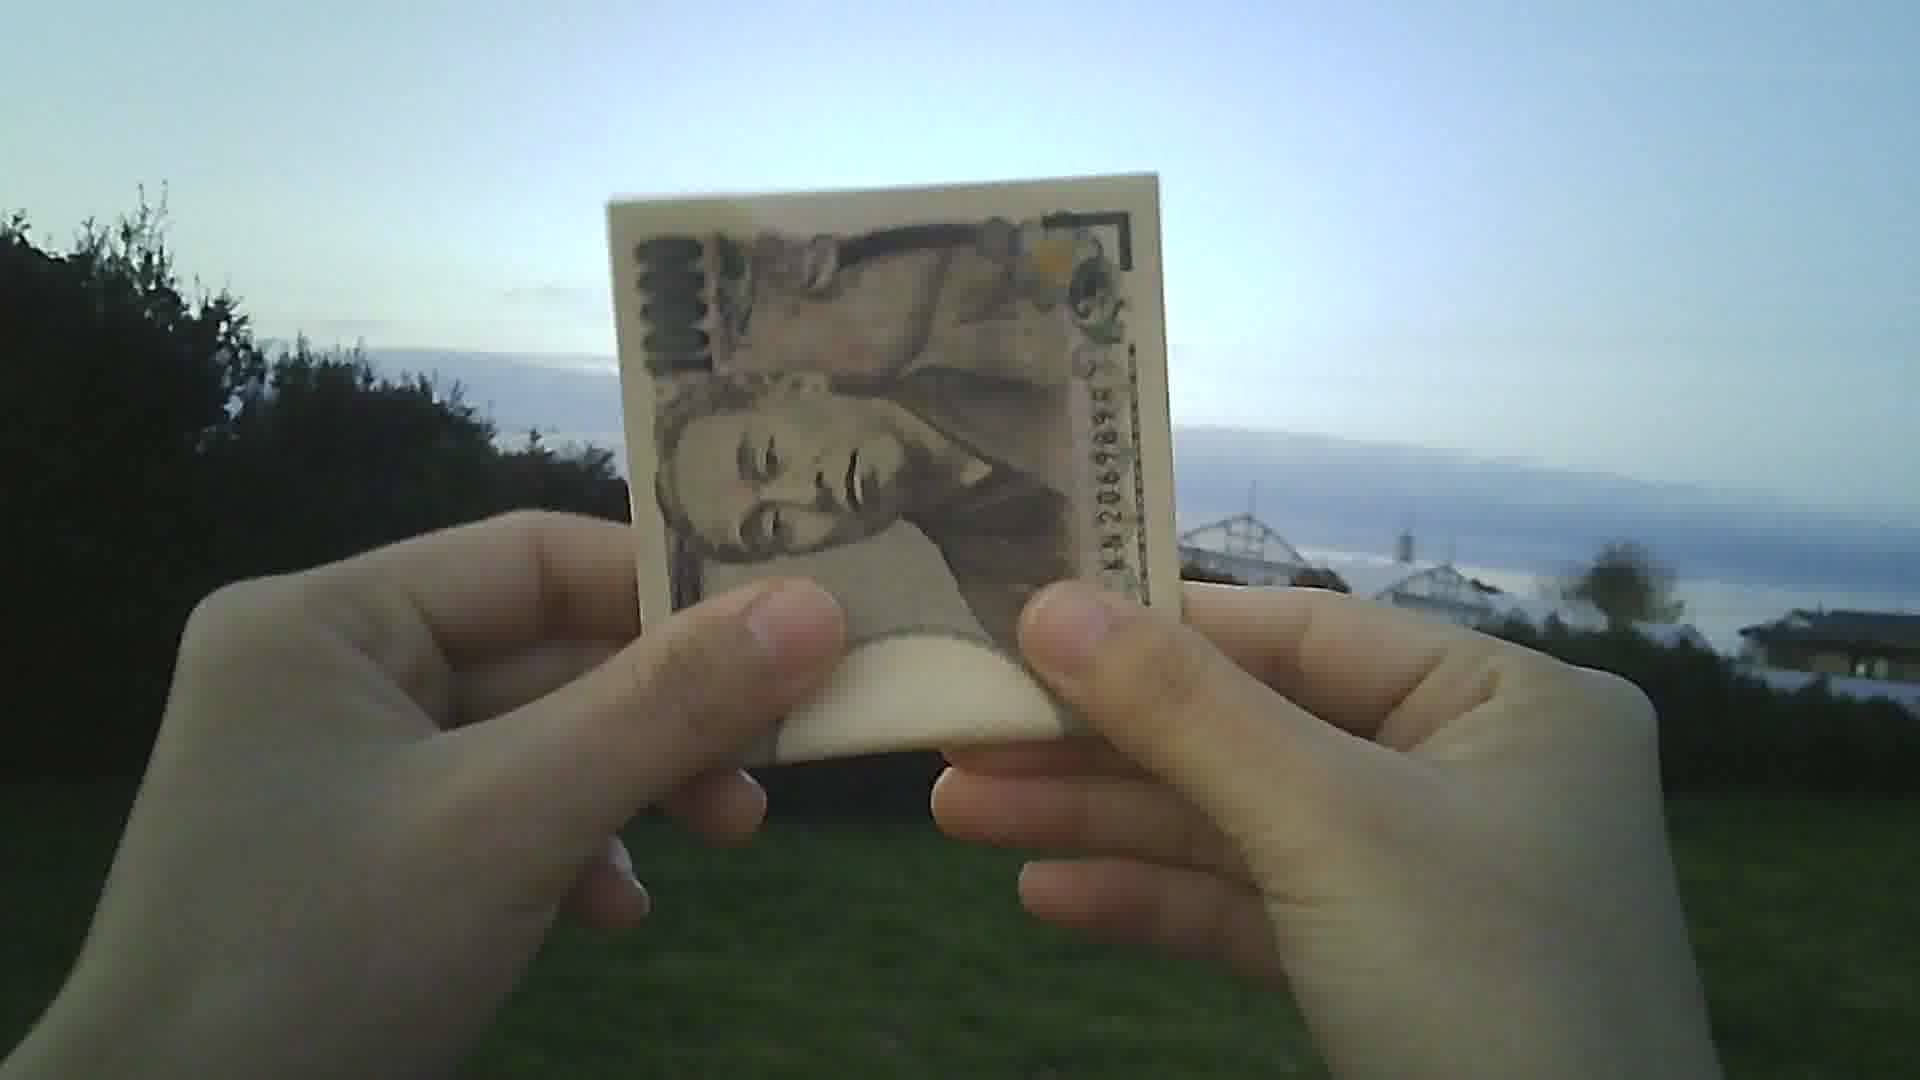10,000 Yen: (568, 142, 1209, 778)
